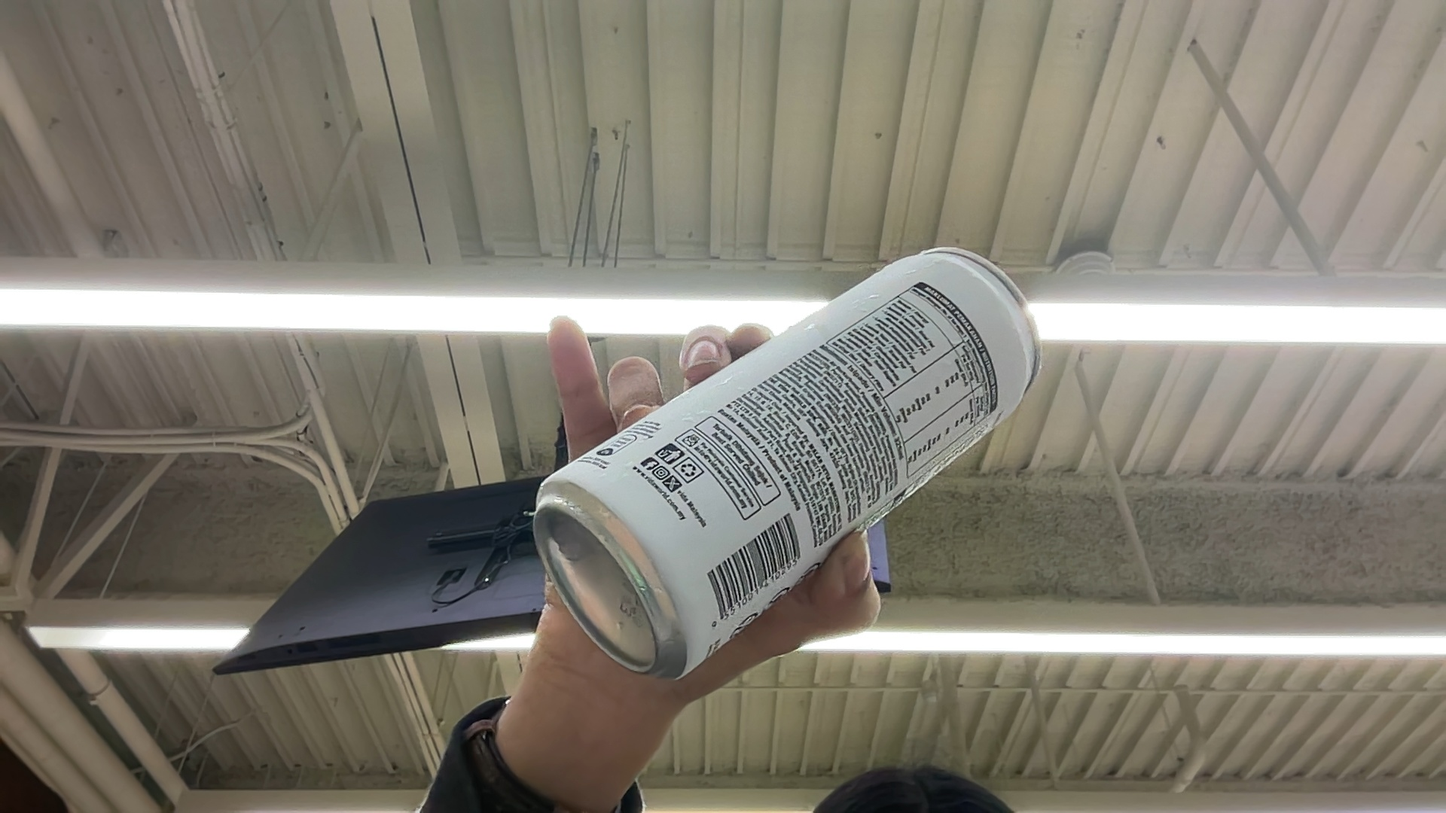Metal: (505, 180, 1074, 708)
